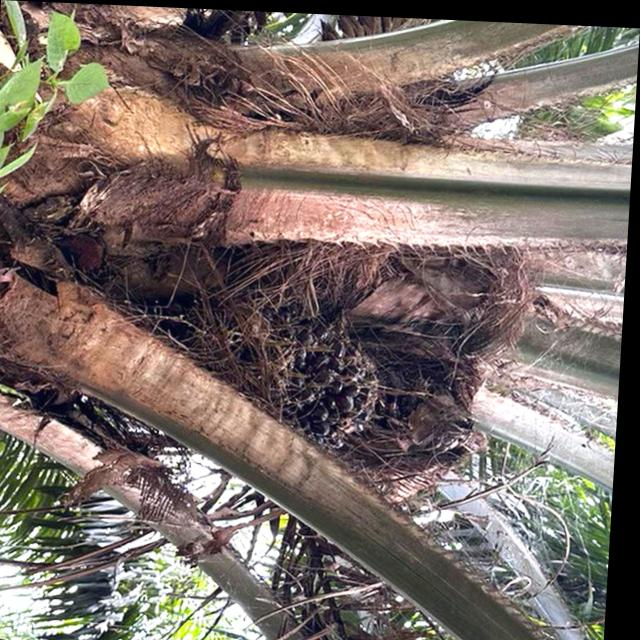almost: (186, 292, 389, 451)
